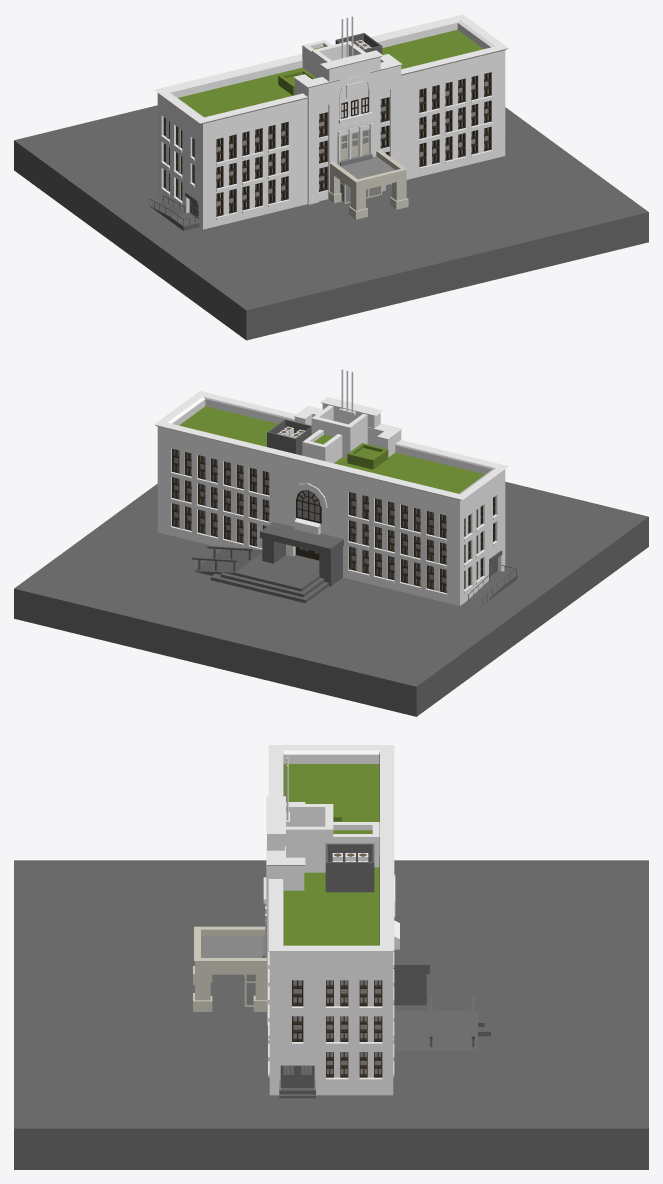
The model's file is former-jeonnam-provincial-office.glb.
The picture shows the model from 3 angles, top to bottom: view 1: azimuth 30°, elevation 25°; view 2: azimuth 150°, elevation 25°; view 3: azimuth 270°, elevation 25°; orthographic projection. The views are drawn at different scales.
Parts seen in each view (by area): view 1: a1; view 2: a1; view 3: a1.
Boxes of the visible parts, bbox=[...] form: a1: bbox=[14, 14, 648, 340]; a1: bbox=[14, 369, 648, 716]; a1: bbox=[14, 745, 648, 1169].
Size of the model in its own units: 140 by 66.6 by 140.
Materials: 1 (1 with a texture image).
